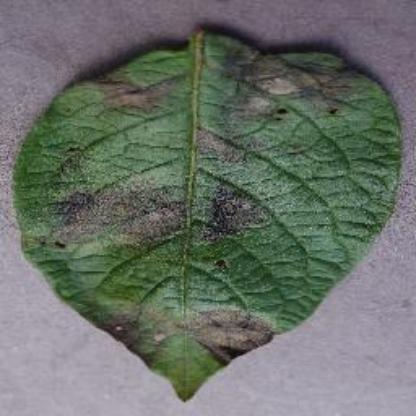Late-Blight: (11, 20, 404, 400)
